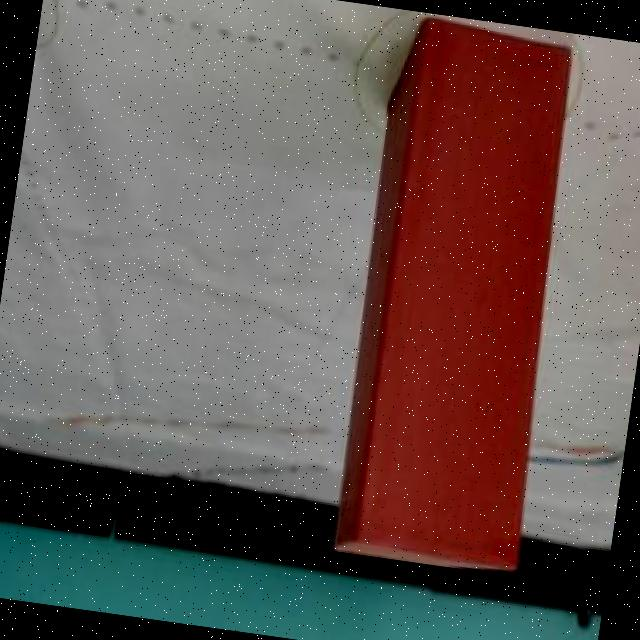redbox: (322, 11, 590, 576)
